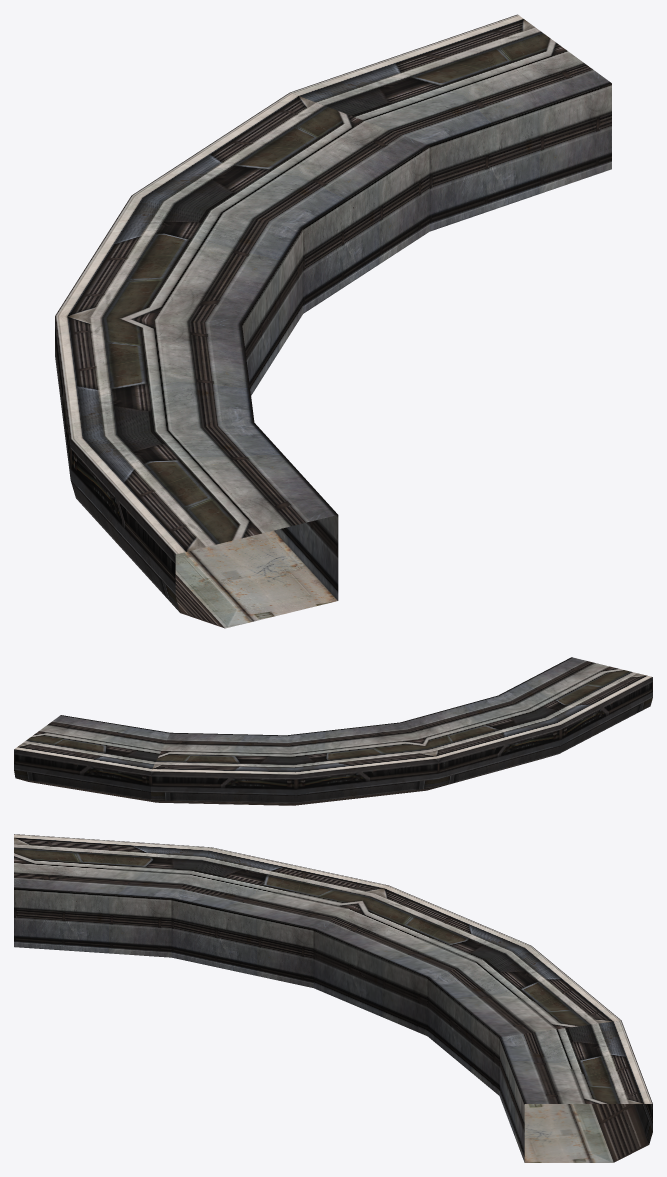
Rendered from Edge_09.fbx.
3 renders of one model, top to bottom at view 1: azimuth 30°, elevation 25°; view 2: azimuth 150°, elevation 25°; view 3: azimuth 270°, elevation 25°, orthographic. The views are drawn at different scales.
Parts seen in each view (by area): view 1: Edge_09; view 2: Edge_09; view 3: Edge_09.
Boxes of the visible parts, x1,y1,x2,y2 form: Edge_09: (55, 14, 611, 628); Edge_09: (14, 657, 652, 805); Edge_09: (14, 834, 652, 1162).
Size of the model in its own units: 498 by 50.53 by 498.
